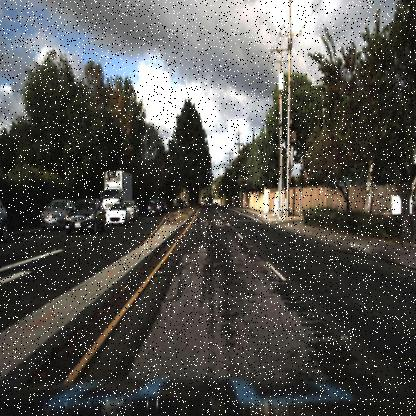car: (63, 195, 104, 233), (40, 199, 76, 234), (102, 199, 131, 228), (104, 200, 132, 228), (147, 199, 163, 220), (132, 198, 144, 224), (146, 197, 162, 216)
truck: (100, 168, 133, 216), (96, 165, 134, 201)
